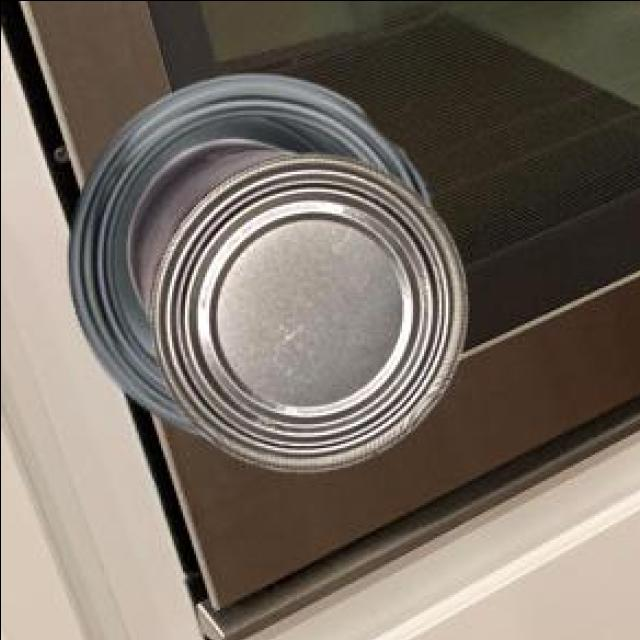logam: (65, 69, 426, 431), (124, 135, 464, 468)
